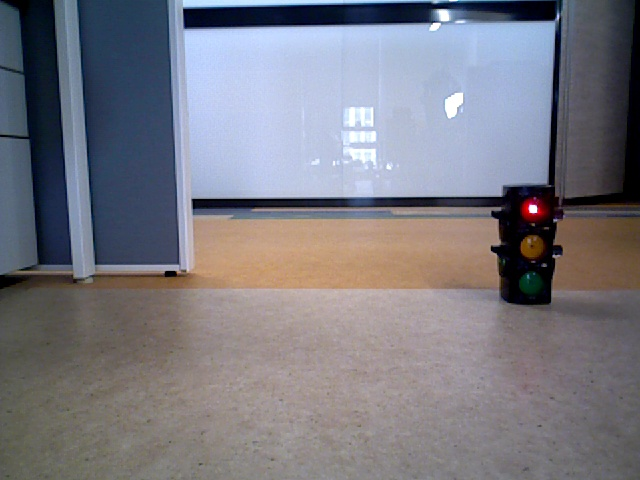red: (503, 185, 550, 303)
